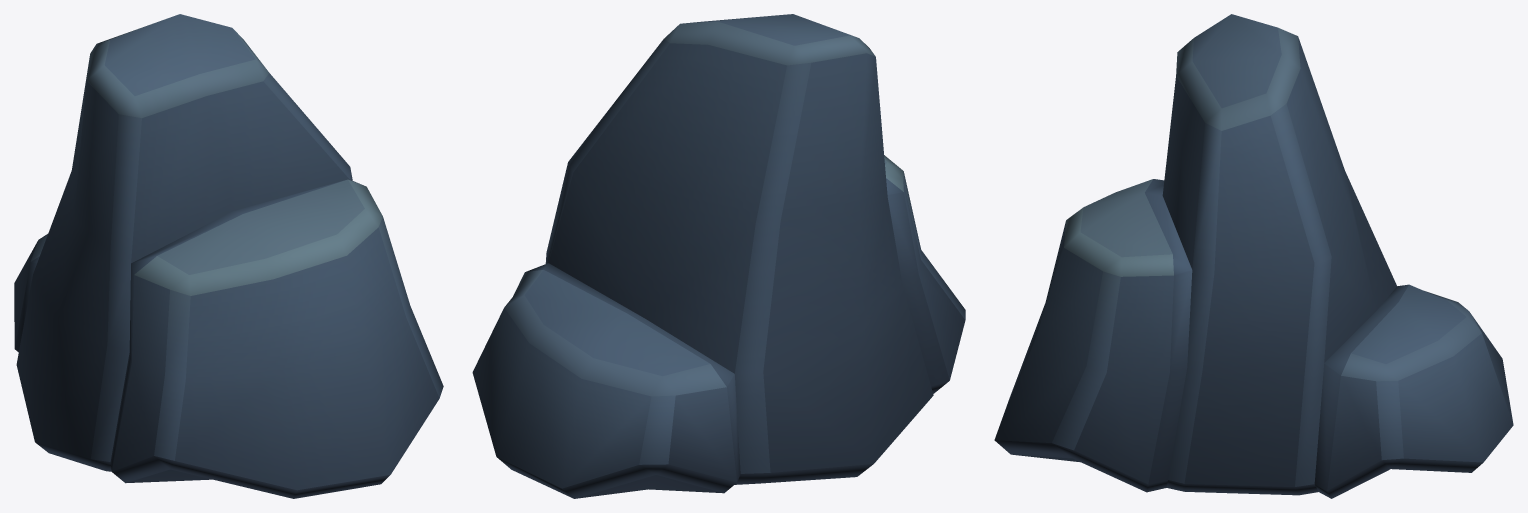
File: rock_06.fbx
3 renders of one model, left to right at view 1: azimuth 30°, elevation 25°; view 2: azimuth 150°, elevation 25°; view 3: azimuth 270°, elevation 25°, orthographic. The views are drawn at different scales.
Visible parts, largest first — view 1: rock_06; view 2: rock_06; view 3: rock_06.
Boxes of the visible parts, <box> form: rock_06: <box>14,14,443,498</box>; rock_06: <box>472,14,965,498</box>; rock_06: <box>994,14,1513,498</box>.
Size of the model in its own units: 138 by 170 by 198.
Materials: 1 (1 with a texture image).
